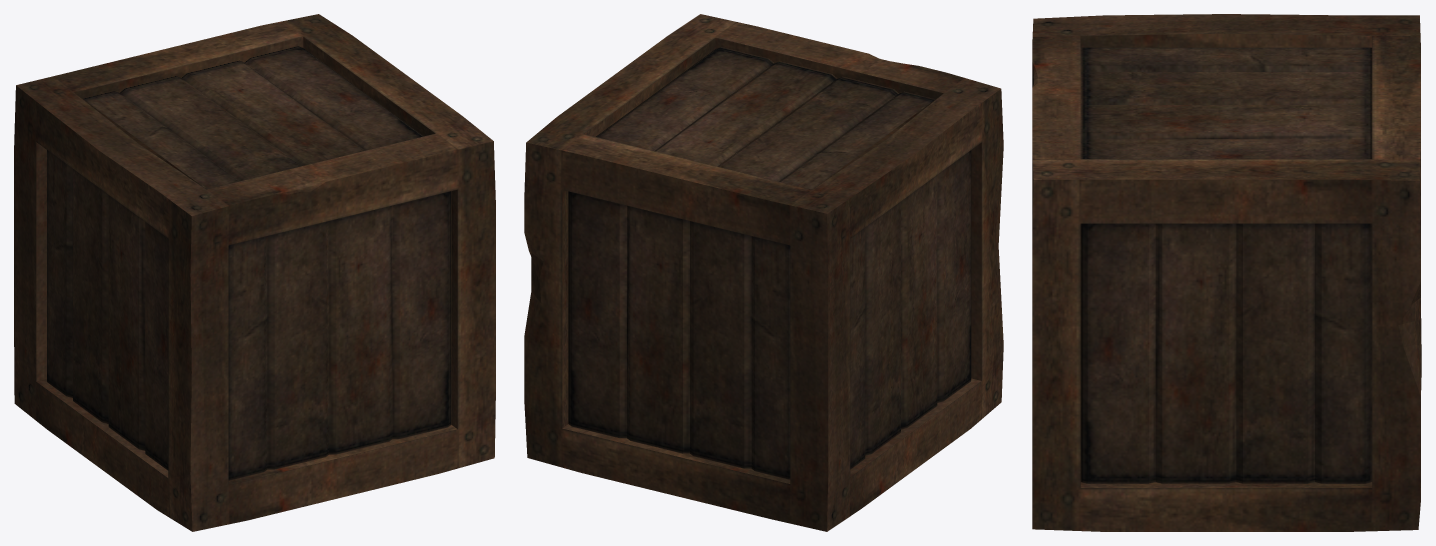
The model's file is wooden_crate_4.fbx.
The picture shows the model from 3 angles, left to right: view 1: azimuth 30°, elevation 25°; view 2: azimuth 150°, elevation 25°; view 3: azimuth 270°, elevation 25°; orthographic projection. The views are drawn at different scales.
Visible parts, largest first — view 1: wooden_crate_4; view 2: wooden_crate_4; view 3: wooden_crate_4.
Part boxes in pixels (x1=…): wooden_crate_4: x1=14, y1=14, x2=495, y2=531; wooden_crate_4: x1=524, y1=14, x2=1003, y2=531; wooden_crate_4: x1=1032, y1=14, x2=1421, y2=531.
Size of the model in its own units: 1.09 by 1.08 by 1.08.
